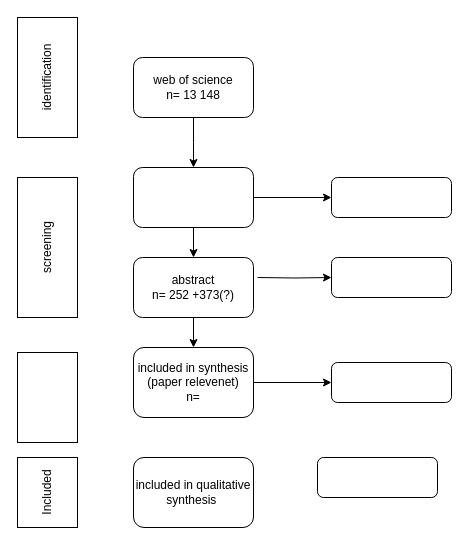
The diagram is 469 pixels wide and 545 high, and some of its shapes have lost their labels. The shapes that lost their labels are listed below. From the top down, each one's box as (x1, y1, x2, y2) in pixels, then its label:
(132, 166, 254, 228): title n= 1 860
(16, 352, 78, 442): Eligibility
(330, 362, 452, 402): excluded
